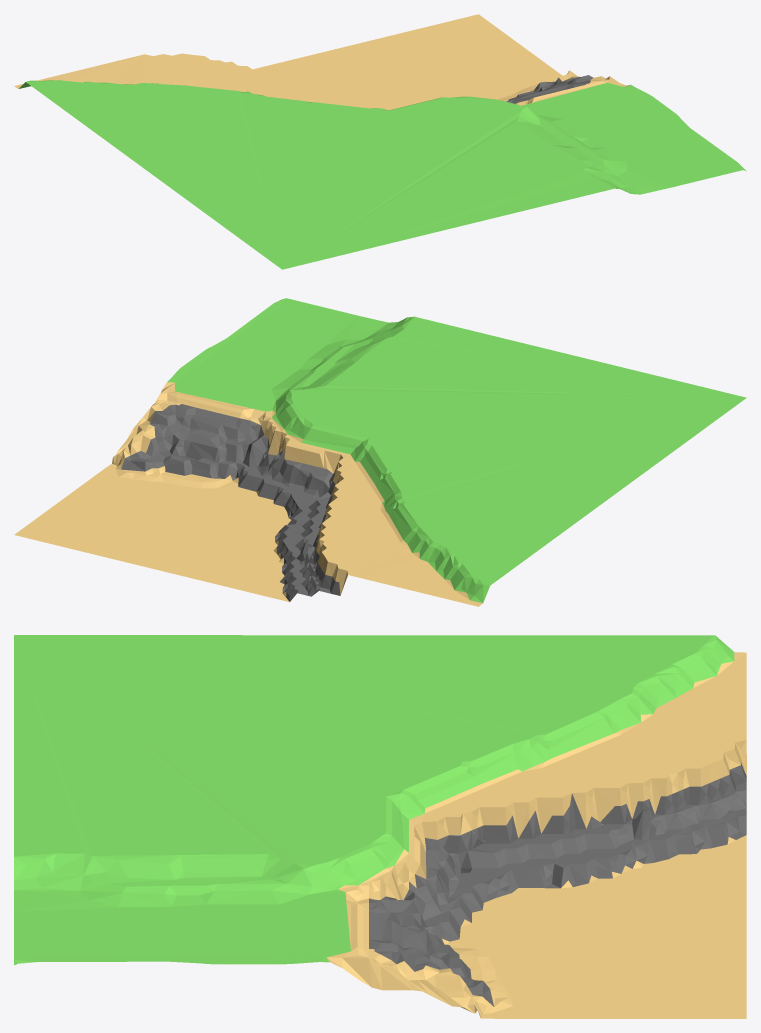
The model's file is Island2.fbx.
The picture shows the model from 3 angles, top to bottom: view 1: azimuth 30°, elevation 25°; view 2: azimuth 150°, elevation 25°; view 3: azimuth 270°, elevation 25°; orthographic projection. The views are drawn at different scales.
Visible parts, largest first — view 1: 평면.001; view 2: 평면.001; view 3: 평면.001.
Boxes of the visible parts, left/top/right/bottom form: 평면.001: left=14, top=14, right=746, bottom=269; 평면.001: left=14, top=298, right=746, bottom=606; 평면.001: left=14, top=635, right=746, bottom=1018.
Bounding box in the file's own units: 202 × 22.51 × 200.
